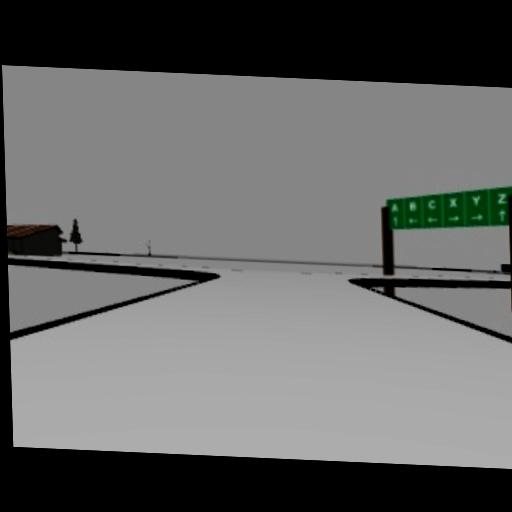A: (390, 202, 399, 212)
B: (409, 200, 418, 212)
C: (427, 199, 436, 211)
Left: (407, 217, 421, 225), (426, 216, 438, 224)
Right: (469, 212, 484, 222), (447, 215, 461, 223)
Straight: (498, 209, 507, 223), (391, 215, 399, 227)
X: (448, 197, 459, 209)
Y: (471, 194, 482, 208)
Z: (497, 192, 508, 206)
